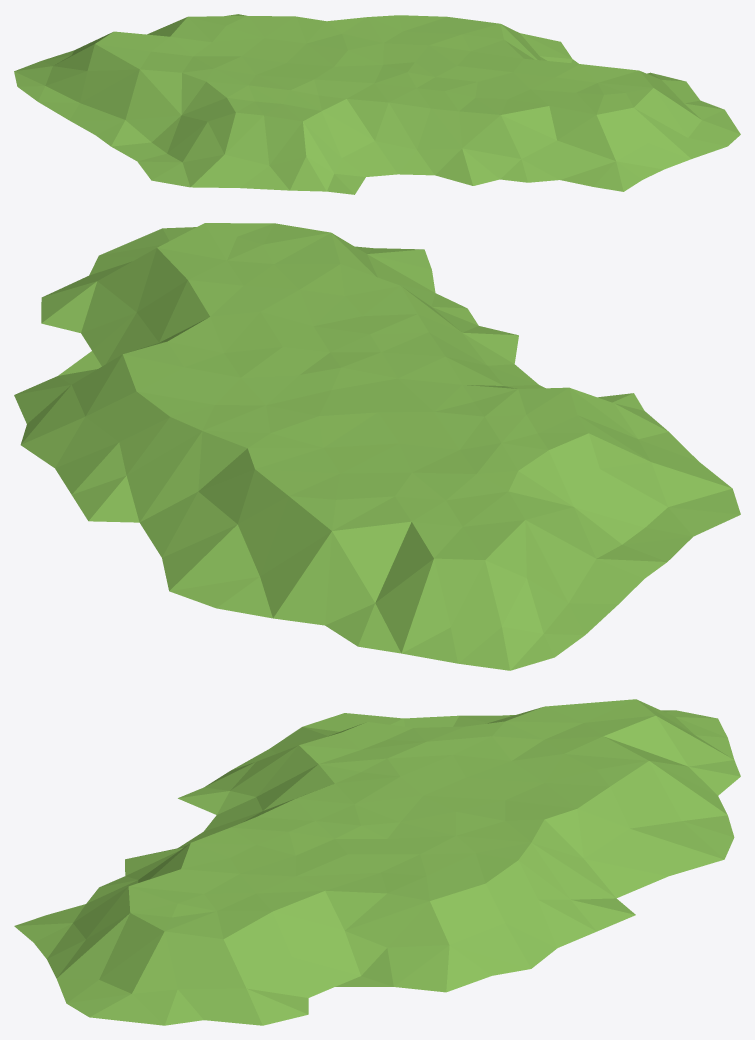
Rendered from MT_Mountain_M_b_11.fbx.
The picture shows the model from 3 angles, top to bottom: view 1: azimuth 30°, elevation 25°; view 2: azimuth 150°, elevation 25°; view 3: azimuth 270°, elevation 25°; orthographic projection. The views are drawn at different scales.
Visible parts, largest first — view 1: MT_Mountain_M_b_11; view 2: MT_Mountain_M_b_11; view 3: MT_Mountain_M_b_11.
Boxes of the visible parts, bbox=[...] form: MT_Mountain_M_b_11: bbox=[14, 14, 740, 194]; MT_Mountain_M_b_11: bbox=[14, 223, 740, 670]; MT_Mountain_M_b_11: bbox=[14, 699, 740, 1025].
Size of the model in its own units: 4453 by 344 by 4336.
